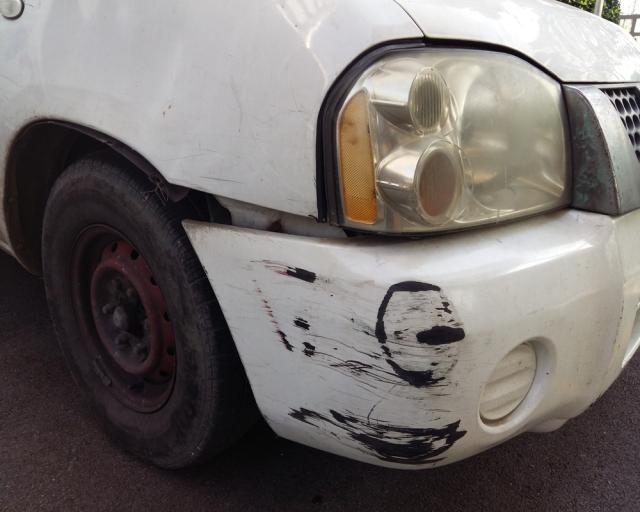scratch: (245, 255, 467, 466)
